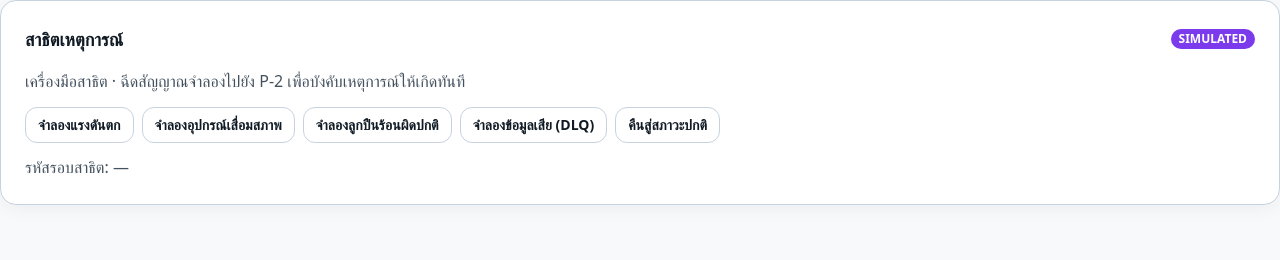
it: enabled panel › surfaces a Thai error when the injection fails, and recovers the buttons
Step 1. Click the button "คืนสู่สภาวะปกติ" → {"x": 668, "y": 125}, box [615, 107, 720, 143]
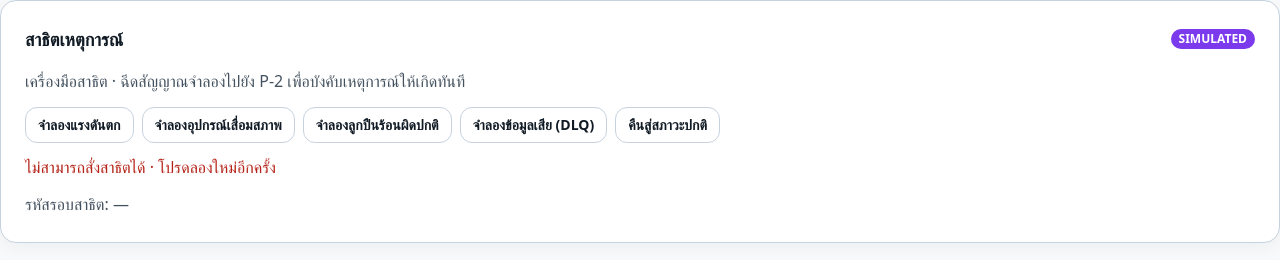
expect the text "ไม่สามารถสั่งสาธิตได้ · โปรดลองใหม่อีกครั้ง" is shown: met, box [25, 156, 276, 178]
